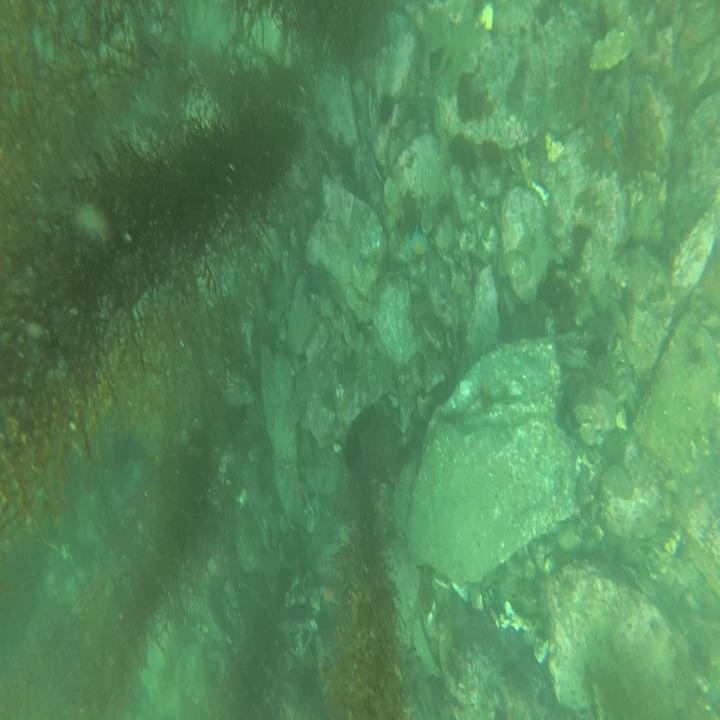echinus: (449, 126, 474, 171), (340, 428, 364, 468), (376, 87, 394, 123)
starfish: (597, 107, 623, 166), (408, 227, 430, 258), (318, 578, 340, 608)
